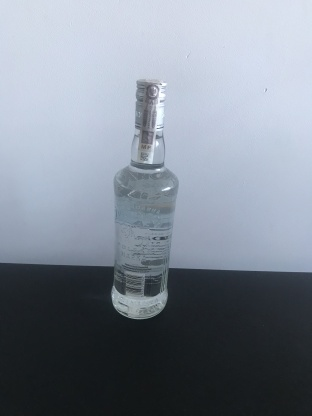nakretka: (132, 74, 168, 133)
